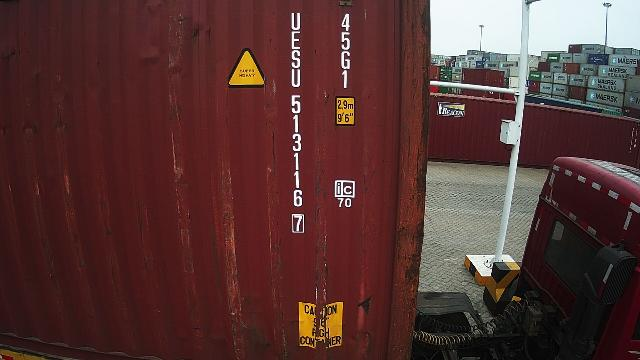1: (292, 114, 300, 134), (293, 152, 299, 170), (294, 171, 300, 189)
3: (292, 133, 302, 152)
5: (291, 94, 301, 114)
6: (294, 189, 302, 207)
7: (292, 214, 304, 232)
E: (291, 30, 301, 49)
S: (291, 50, 301, 68)
U: (291, 68, 301, 88), (291, 12, 301, 30)
